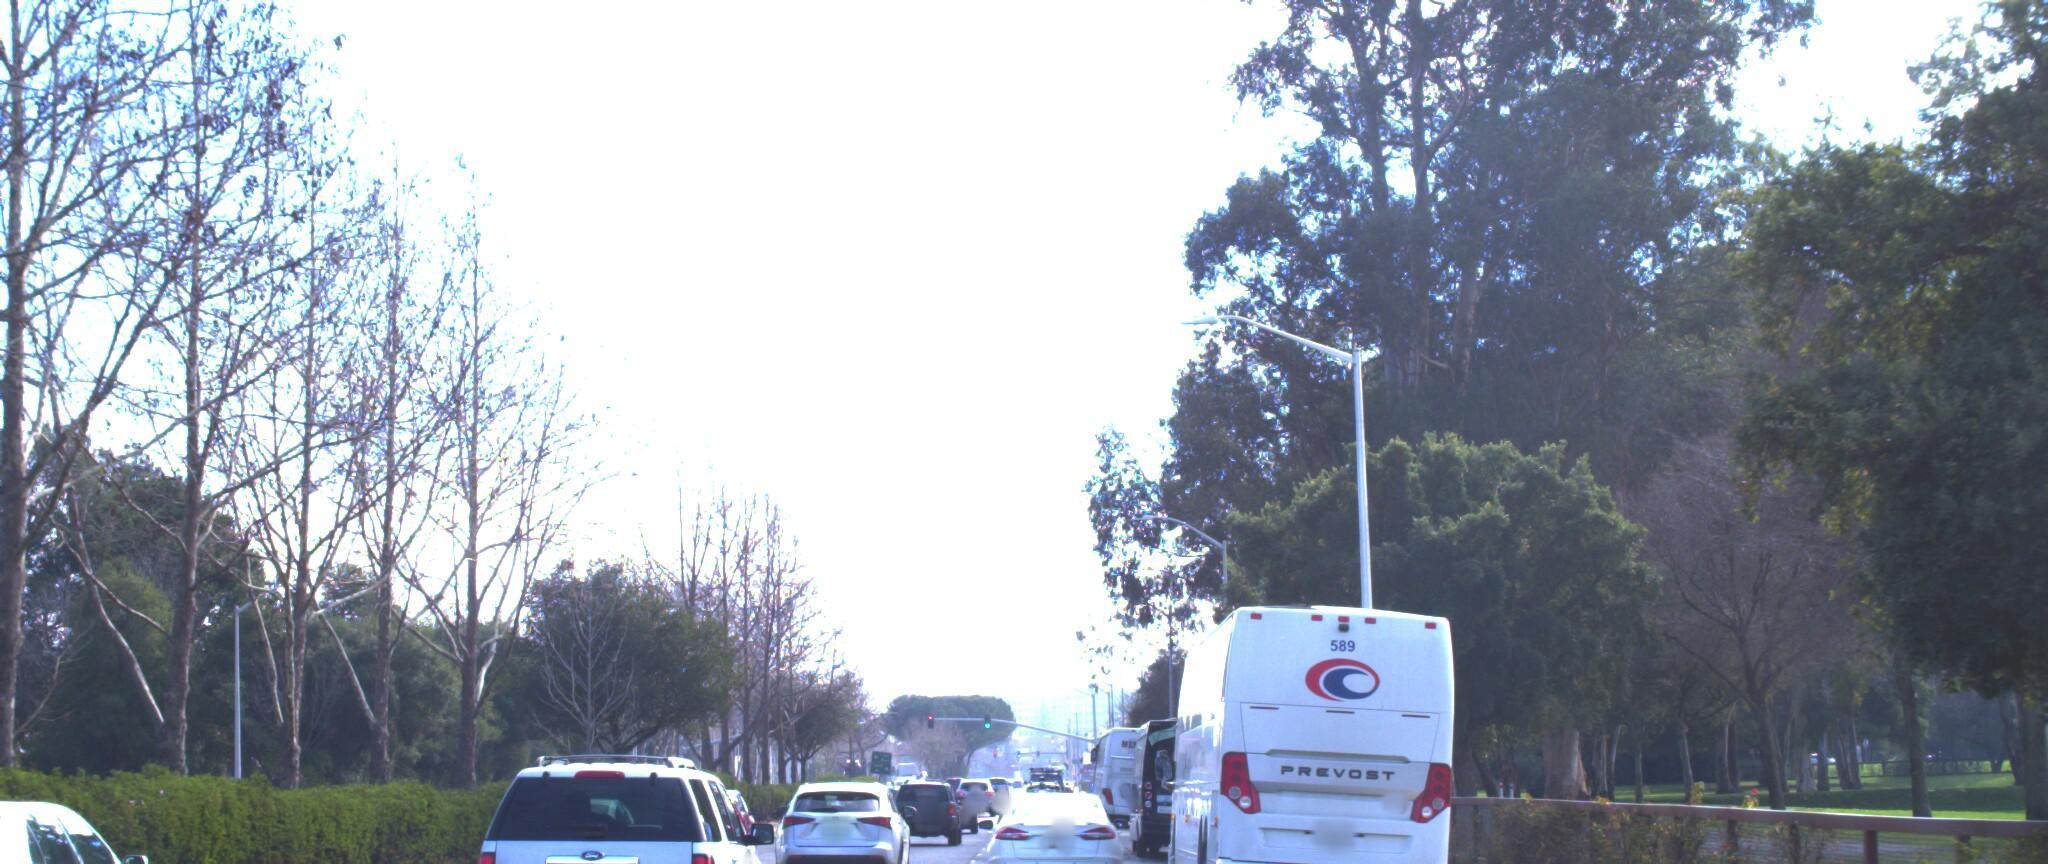bus: (1148, 587, 1481, 864), (1110, 709, 1256, 854)
car: (457, 732, 778, 864), (0, 777, 195, 864), (756, 779, 904, 864), (970, 778, 1113, 864), (893, 780, 970, 851)
